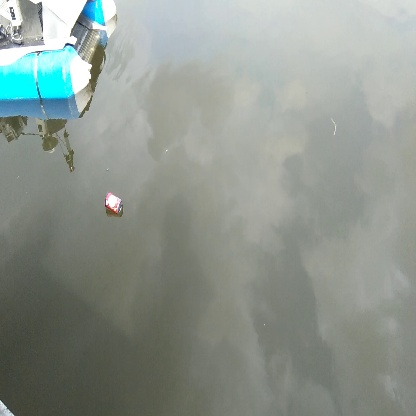bottle: (103, 191, 125, 219)
